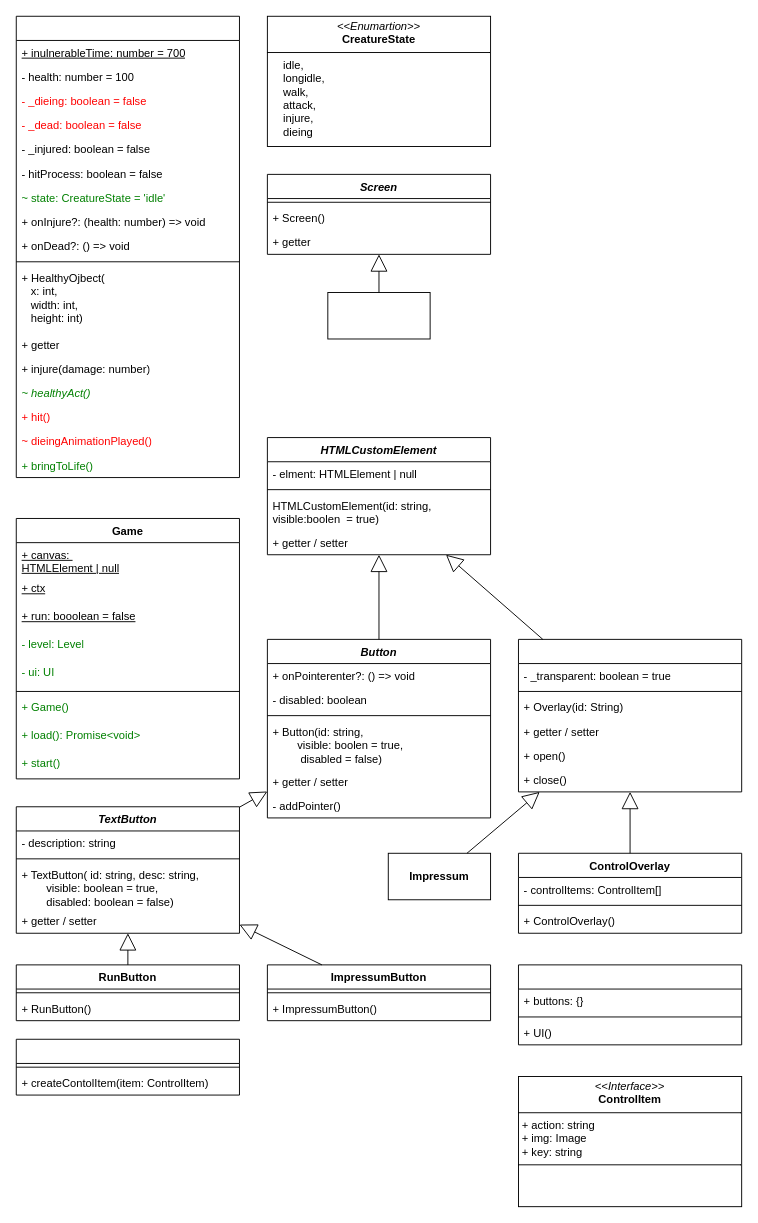
Some shapes in this 758 by 1223 pixel diagram are drawn without their labels. The shapes that lost their labels are listed below. From the top down, each one's box as (x1, y1, x2, y2) in pixels, then its label:
(15, 15, 239, 478): HealthyObject
(327, 292, 430, 339): MainScreen
(518, 638, 742, 792): Oberlay
(518, 964, 742, 1045): UI
(15, 1038, 239, 1095): Template
